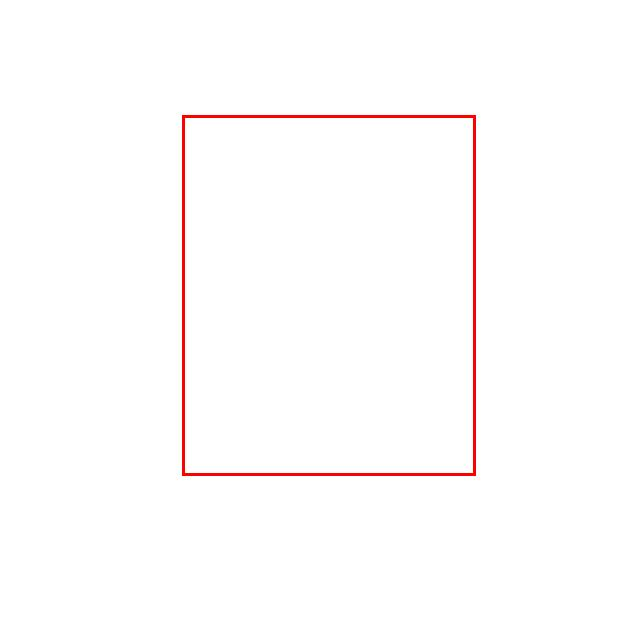Water: (182, 115, 475, 475)
